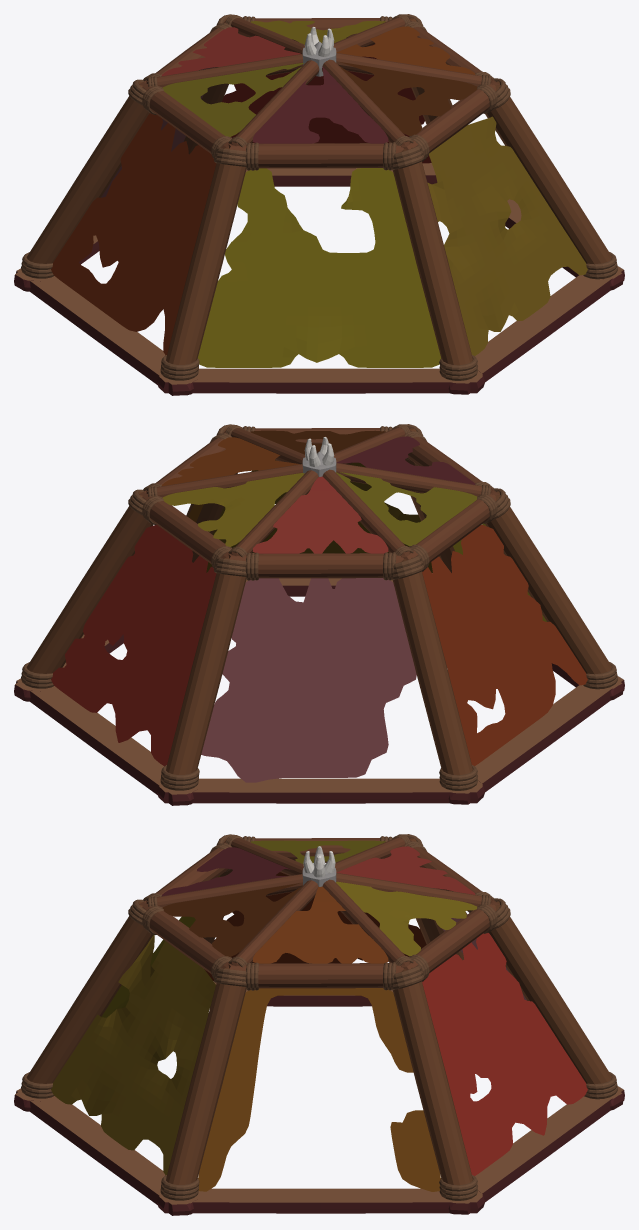
The model's file is tent.fbx.
3 renders of one model, top to bottom at view 1: azimuth 30°, elevation 25°; view 2: azimuth 150°, elevation 25°; view 3: azimuth 270°, elevation 25°, orthographic.
Parts seen in each view (by area): view 1: Grid.007, Grid.008, Grid.006, Cylinder.008, Cylinder.021, Cylinder.006, Cylinder.017, Cylinder.013, Cylinder.015, Grid.002, Cylinder.023, Grid.001 (+19 smaller); view 2: Grid.011, Grid.010, Grid.006, Cylinder.019, Cylinder.002, Cylinder.017, Grid.004, Cylinder.021, Cylinder.009, Cylinder.004, Cylinder.023, Grid.005 (+18 smaller); view 3: Grid.010, Grid.008, Grid.009, Cylinder.012, Cylinder.013, Cylinder.009, Cylinder.006, Grid, Cylinder.002, Cylinder.015, Cylinder.004, Grid.001 (+19 smaller).
Part boxes in pixels (left/top/right/bottom): Grid.007: left=198, top=168, right=441, bottom=367; Grid.008: left=427, top=116, right=587, bottom=355; Grid.006: left=51, top=113, right=216, bottom=355; Cylinder.008: left=157, top=368, right=484, bottom=393; Cylinder.021: left=166, top=147, right=246, bottom=364; Cylinder.006: left=392, top=147, right=472, bottom=365; Cylinder.017: left=26, top=81, right=149, bottom=263; Cylinder.013: left=485, top=81, right=612, bottom=264; Cylinder.015: left=441, top=266, right=624, bottom=394; Grid.002: left=252, top=66, right=388, bottom=143; Cylinder.023: left=16, top=268, right=199, bottom=395; Grid.001: left=339, top=62, right=477, bottom=136; Grid.011: left=201, top=578, right=416, bottom=782; Grid.010: left=51, top=525, right=216, bottom=766; Grid.006: left=422, top=524, right=587, bottom=765; Cylinder.019: left=157, top=778, right=484, bottom=803; Cylinder.002: left=166, top=557, right=246, bottom=774; Cylinder.017: left=392, top=557, right=472, bottom=775; Grid.004: left=253, top=476, right=388, bottom=553; Cylinder.021: left=485, top=491, right=612, bottom=674; Cylinder.009: left=26, top=491, right=153, bottom=673; Cylinder.004: left=16, top=678, right=199, bottom=805; Cylinder.023: left=448, top=676, right=624, bottom=804; Grid.005: left=162, top=473, right=304, bottom=546; Grid.010: left=422, top=933, right=587, bottom=1175; Grid.008: left=51, top=935, right=215, bottom=1175; Grid.009: left=198, top=988, right=440, bottom=1191; Cylinder.012: left=157, top=1188, right=484, bottom=1213; Cylinder.013: left=166, top=967, right=246, bottom=1184; Cylinder.009: left=392, top=967, right=472, bottom=1185; Cylinder.006: left=26, top=901, right=153, bottom=1083; Grid: left=252, top=886, right=388, bottom=963; Cylinder.002: left=489, top=901, right=612, bottom=1084; Cylinder.015: left=16, top=1088, right=199, bottom=1215; Cylinder.004: left=448, top=1086, right=624, bottom=1214; Grid.001: left=162, top=883, right=301, bottom=956.
Size of the model in its own units: 716 by 371 by 816.
